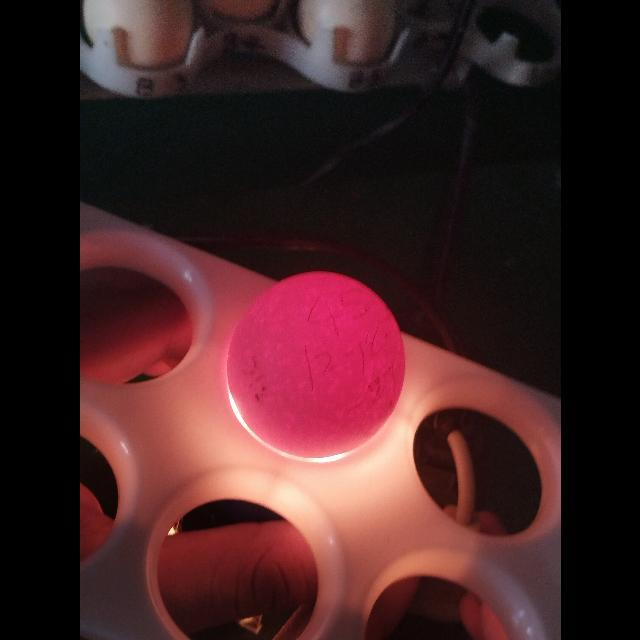Infertile: (224, 268, 408, 462)
